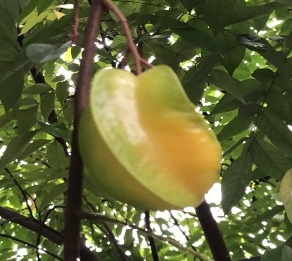Khe: (72, 64, 230, 215)
